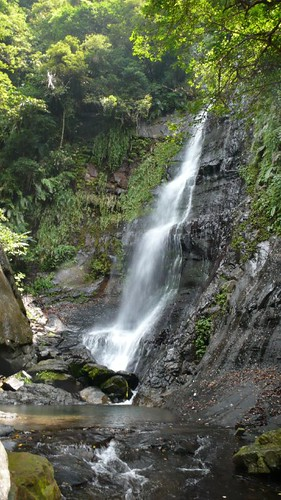wufengciWaterfall: (93, 90, 236, 386)
